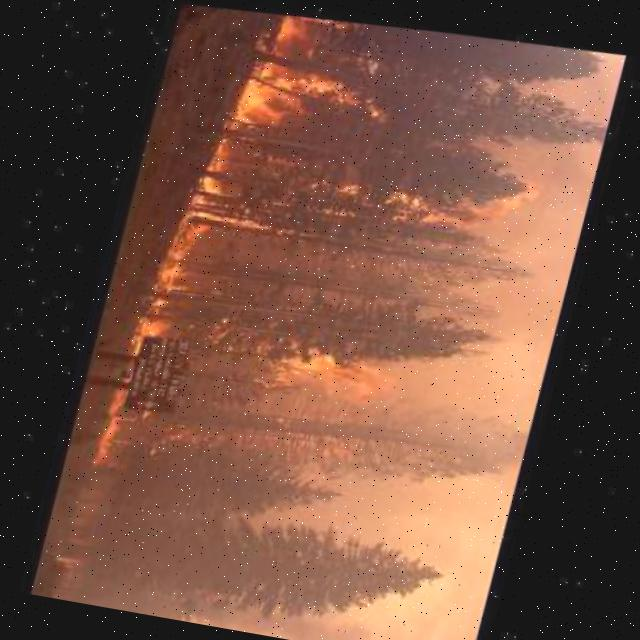fire: (177, 0, 389, 259), (86, 224, 202, 468), (236, 313, 388, 494), (346, 140, 537, 267)
